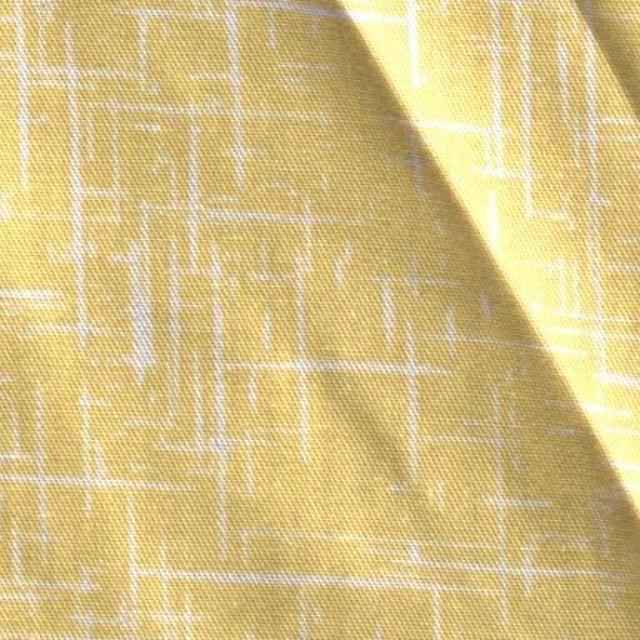broken_yarn: (320, 0, 639, 555), (561, 0, 639, 138)
